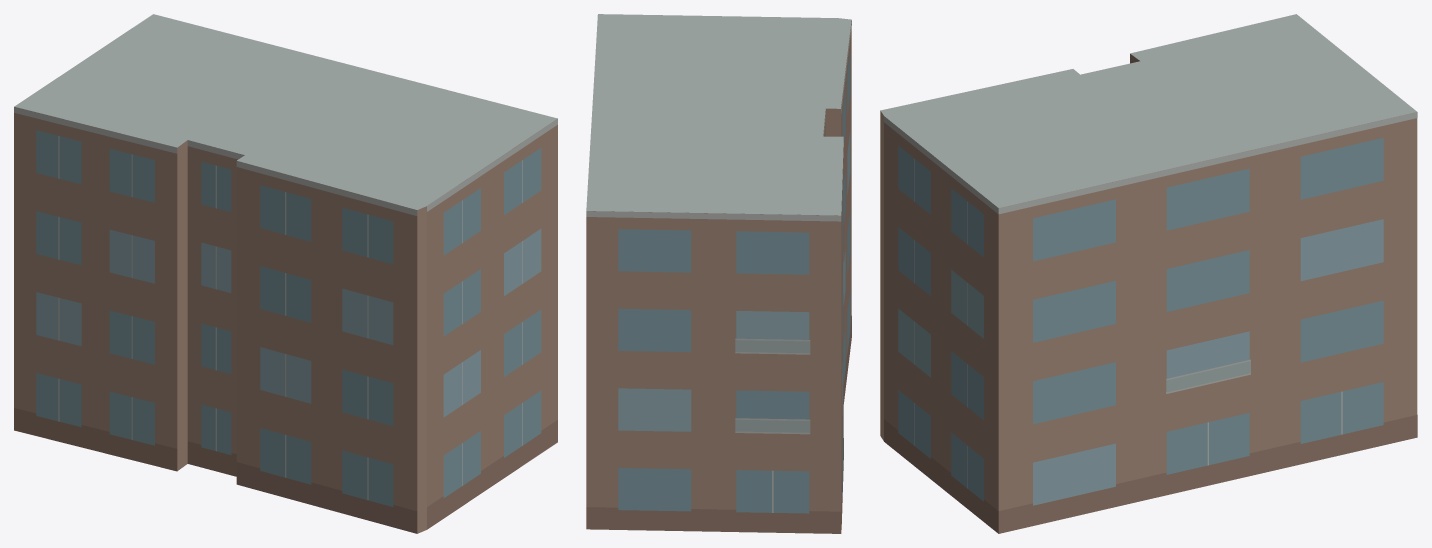
Rendered from survey-upis-32736014.glb.
3 renders of one model, left to right at view 1: azimuth 30°, elevation 25°; view 2: azimuth 150°, elevation 25°; view 3: azimuth 270°, elevation 25°, orthographic. The views are drawn at different scales.
Visible parts, largest first — view 1: survey-upis-32736014.tmp; view 2: survey-upis-32736014.tmp; view 3: survey-upis-32736014.tmp.
Boxes of the visible parts, <box> form: survey-upis-32736014.tmp: <box>14,14,557,533</box>; survey-upis-32736014.tmp: <box>586,14,851,533</box>; survey-upis-32736014.tmp: <box>880,14,1417,533</box>.
Bounding box in the file's own units: 16.51 × 12.9 × 19.28.
